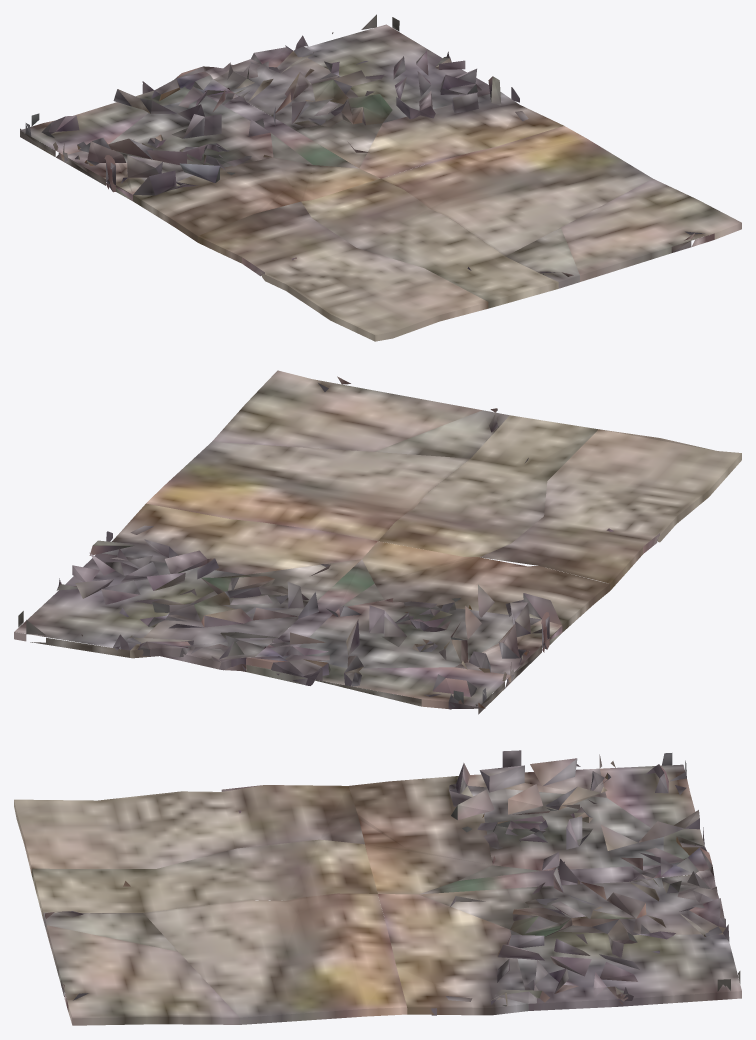
3 renders of one model, top to bottom at view 1: azimuth 30°, elevation 25°; view 2: azimuth 150°, elevation 25°; view 3: azimuth 270°, elevation 25°, orthographic. The views are drawn at different scales.
Parts seen in each view (by area): view 1: Mesh_0; view 2: Mesh_0; view 3: Mesh_0.
Part boxes in pixels (x1,y1,x2,y2): Mesh_0: [20, 14, 741, 341]; Mesh_0: [14, 370, 741, 714]; Mesh_0: [14, 750, 741, 1025].
Size of the model in its own units: 1080 by 104 by 1318.
Materials: 1 (1 with a texture image).
